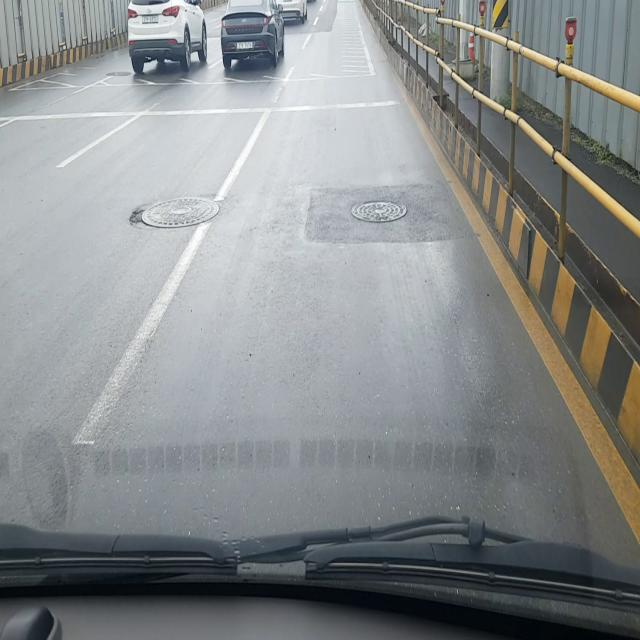Pothole: (129, 195, 221, 230)
